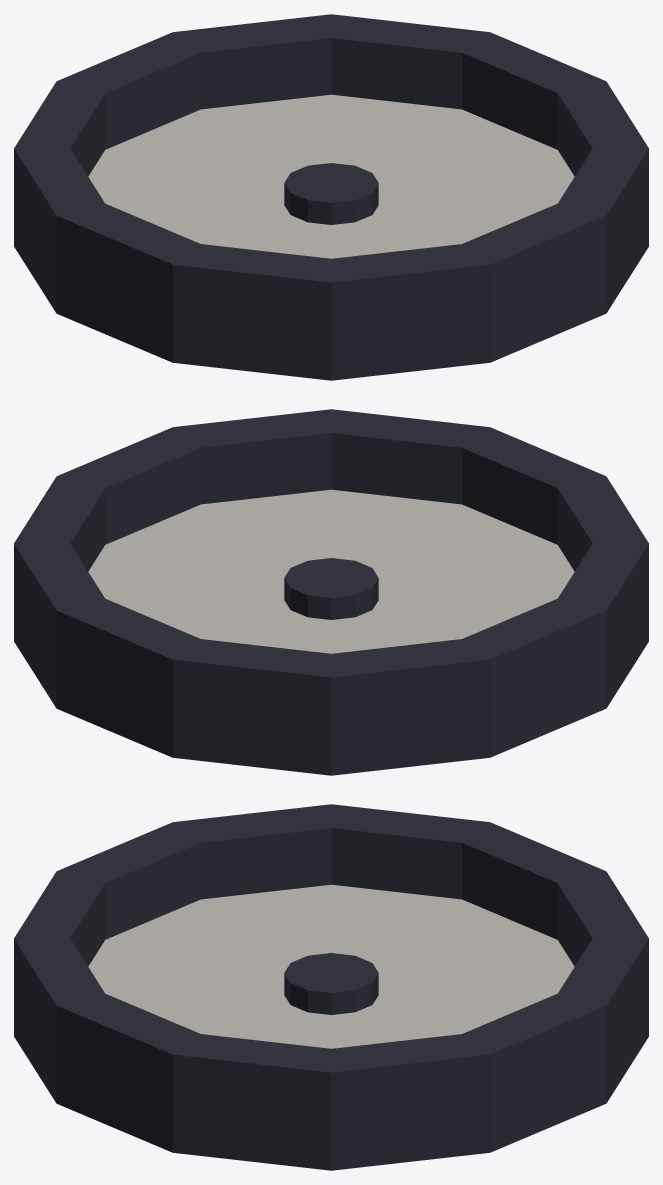
File: Clock.fbx
The picture shows the model from 3 angles, top to bottom: view 1: azimuth 30°, elevation 25°; view 2: azimuth 150°, elevation 25°; view 3: azimuth 270°, elevation 25°; orthographic projection.
Parts seen in each view (by area): view 1: Clock; view 2: Clock; view 3: Clock.
Part boxes in pixels (x1=…): Clock: x1=14, y1=14, x2=648, y2=380; Clock: x1=14, y1=409, x2=648, y2=775; Clock: x1=14, y1=804, x2=648, y2=1170.
Size of the model in its own units: 0.5883 by 0.1003 by 0.5883.
